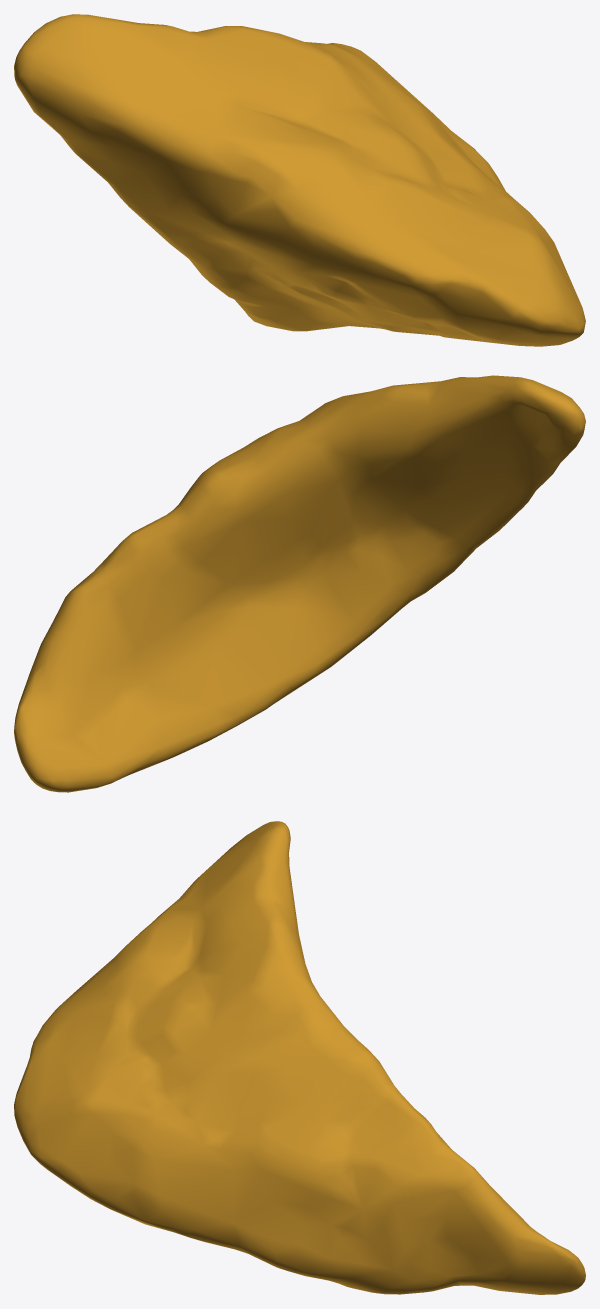
3 views of the same model, one above another, from view 1: azimuth 30°, elevation 25°; view 2: azimuth 150°, elevation 25°; view 3: azimuth 270°, elevation 25° (orthographic). The views are drawn at different scales.
Visible parts, largest first — view 1: 右侧肾上腺; view 2: 右侧肾上腺; view 3: 右侧肾上腺.
Part boxes in pixels (x1=…): 右侧肾上腺: x1=14, y1=14, x2=585, y2=346; 右侧肾上腺: x1=14, y1=375, x2=585, y2=792; 右侧肾上腺: x1=14, y1=821, x2=585, y2=1294.
Bounding box in the file's own units: 0.047 × 0.0401 × 0.0623.
